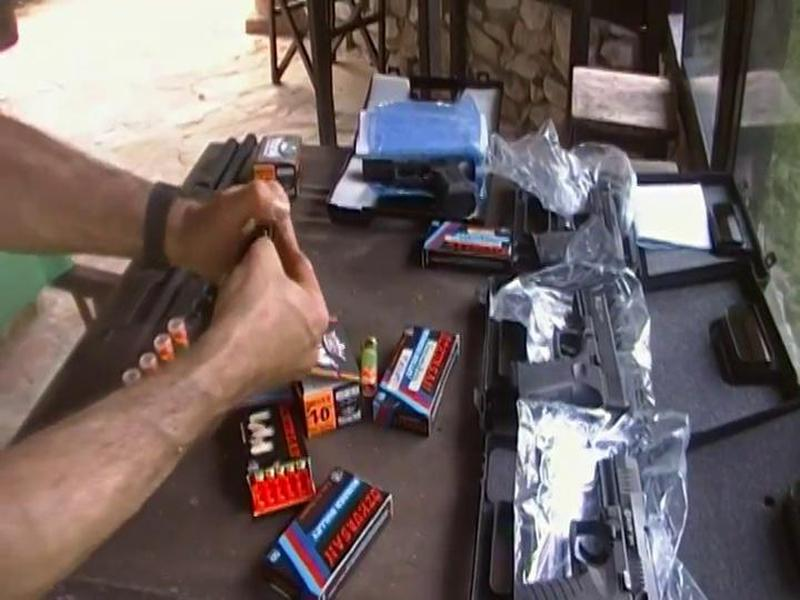Pistola: (495, 438, 669, 600), (500, 275, 649, 425)
